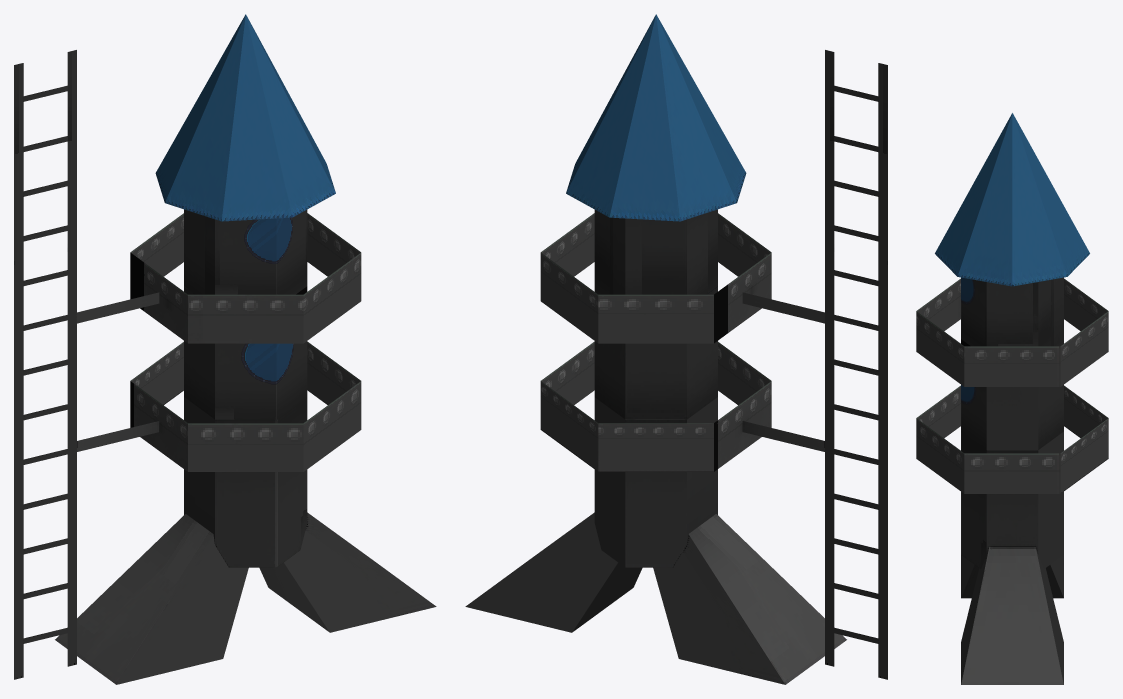
File: rocket8.gltf
3 views of the same model, side by side, from view 1: azimuth 30°, elevation 25°; view 2: azimuth 150°, elevation 25°; view 3: azimuth 270°, elevation 25° (orthographic). The views are drawn at different scales.
Visible parts, largest first — view 1: Plane.017; view 2: Plane.017; view 3: Plane.017.
Part boxes in pixels (box(x1,y1,x2,y2)): Plane.017: box(14, 14, 436, 684); Plane.017: box(465, 14, 887, 684); Plane.017: box(916, 113, 1108, 684).
Bounding box in the file's own units: 7.34 × 11 × 3.75.
Materials: 1 (1 with a texture image).
